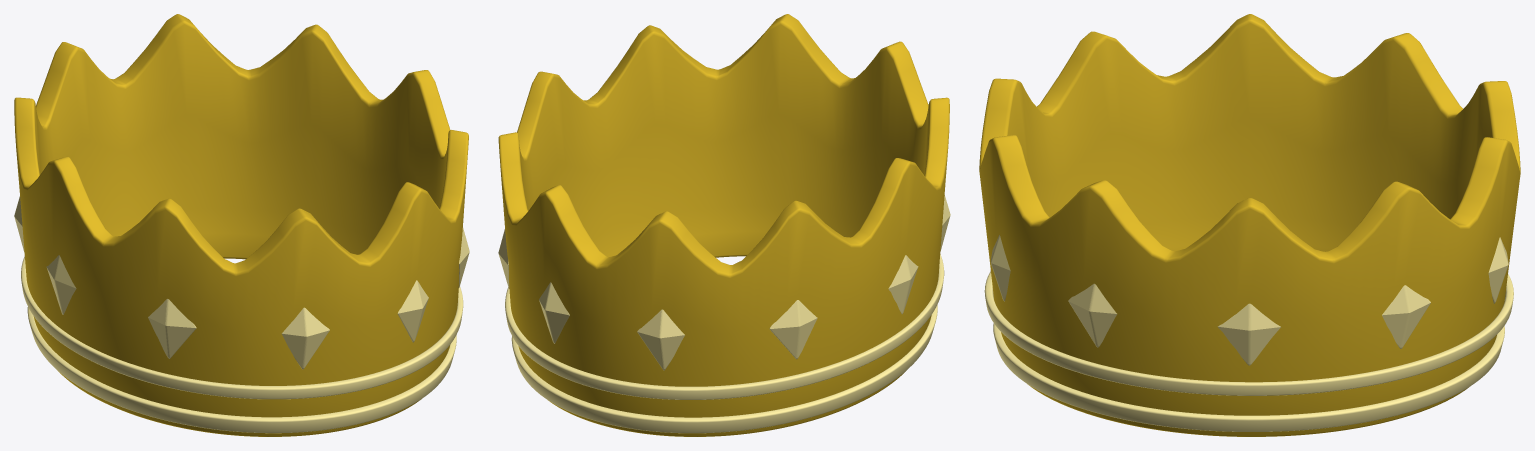
File: golden_crown.glb
3 renders of one model, left to right at view 1: azimuth 30°, elevation 25°; view 2: azimuth 150°, elevation 25°; view 3: azimuth 270°, elevation 25°, orthographic. The views are drawn at different scales.
Parts seen in each view (by area): view 1: Pointed_gold_circlet, Lower_pale_trim, Upper_pale_trim, Ivory_diamond_08, Ivory_diamond_07, Ivory_diamond_09, Ivory_diamond_06; view 2: Pointed_gold_circlet, Lower_pale_trim, Upper_pale_trim, Ivory_diamond_04, Ivory_diamond_05, Ivory_diamond_03, Ivory_diamond_06; view 3: Pointed_gold_circlet, Lower_pale_trim, Upper_pale_trim, Ivory_diamond_01, Ivory_diamond_10, Ivory_diamond_02, Ivory_diamond_03, Ivory_diamond_09.
Boxes of the visible parts, left/top/right/bottom form: Pointed_gold_circlet: left=14, top=14, right=468, bottom=436; Lower_pale_trim: left=27, top=307, right=456, bottom=433; Upper_pale_trim: left=21, top=256, right=463, bottom=399; Ivory_diamond_08: left=281, top=307, right=329, bottom=369; Ivory_diamond_07: left=148, top=299, right=196, bottom=358; Ivory_diamond_09: left=397, top=280, right=428, bottom=342; Ivory_diamond_06: left=46, top=255, right=76, bottom=314; Pointed_gold_circlet: left=498, top=14, right=949, bottom=436; Lower_pale_trim: left=511, top=304, right=937, bottom=433; Upper_pale_trim: left=505, top=254, right=944, bottom=399; Ivory_diamond_04: left=637, top=309, right=684, bottom=370; Ivory_diamond_05: left=769, top=300, right=817, bottom=359; Ivory_diamond_03: left=539, top=282, right=569, bottom=343; Ivory_diamond_06: left=888, top=255, right=918, bottom=314; Pointed_gold_circlet: left=979, top=14, right=1520, bottom=436; Lower_pale_trim: left=993, top=323, right=1504, bottom=431; Upper_pale_trim: left=984, top=271, right=1513, bottom=395; Ivory_diamond_01: left=1217, top=303, right=1280, bottom=365; Ivory_diamond_10: left=1068, top=283, right=1117, bottom=347; Ivory_diamond_02: left=1382, top=285, right=1430, bottom=348; Ivory_diamond_03: left=1488, top=237, right=1508, bottom=303; Ivory_diamond_09: left=990, top=235, right=1010, bottom=301.
Size of the model in its own units: 0.8213 by 0.4843 by 0.9729.
